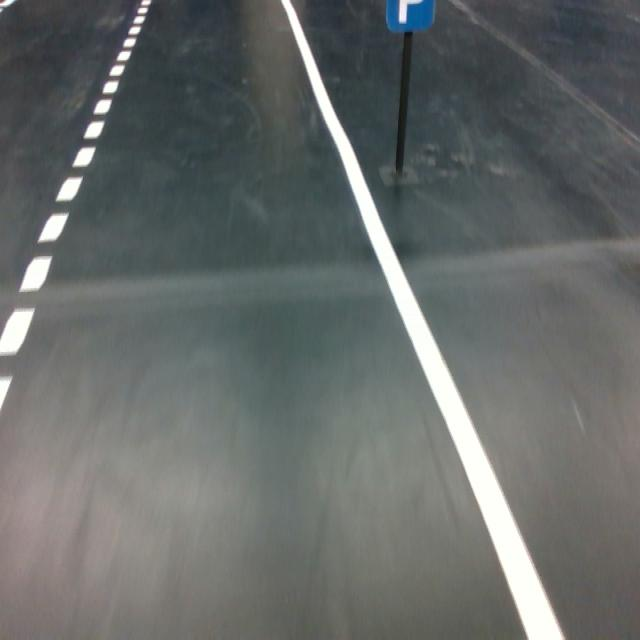parking-sign: (385, 0, 436, 33)
